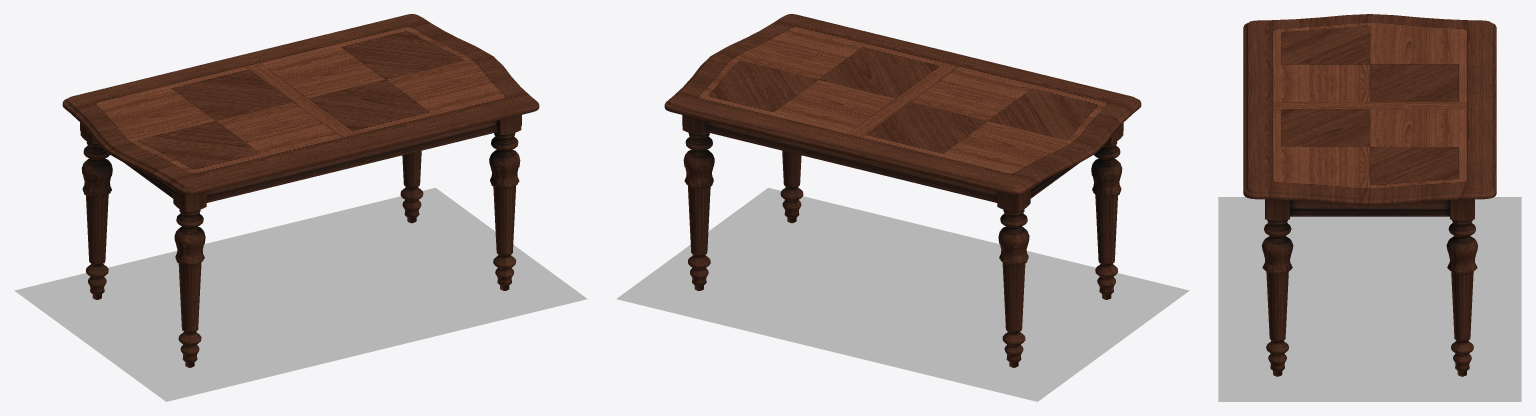
File: zhuozi_01.fbx
The picture shows the model from 3 angles, left to right: view 1: azimuth 30°, elevation 25°; view 2: azimuth 150°, elevation 25°; view 3: azimuth 270°, elevation 25°; orthographic projection.
Parts seen in each view (by area): view 1: zhuozi_yinying001, zhuozi_zhuomian001, zhuozi_zhuotui001; view 2: zhuozi_yinying001, zhuozi_zhuomian001, zhuozi_zhuotui001; view 3: zhuozi_yinying001, zhuozi_zhuomian001, zhuozi_zhuotui001.
Part boxes in pixels (box(x1,y1,x2,y2)): zhuozi_yinying001: box(14, 187, 587, 401); zhuozi_zhuomian001: box(62, 14, 539, 194); zhuozi_zhuotui001: box(80, 115, 521, 367); zhuozi_yinying001: box(616, 187, 1189, 401); zhuozi_zhuomian001: box(664, 14, 1141, 194); zhuozi_zhuotui001: box(682, 115, 1123, 367); zhuozi_yinying001: box(1218, 197, 1521, 401); zhuozi_zhuomian001: box(1243, 14, 1496, 205); zhuozi_zhuotui001: box(1262, 199, 1477, 376).
Bounding box in the file's own units: 1750 × 772 × 1094.
